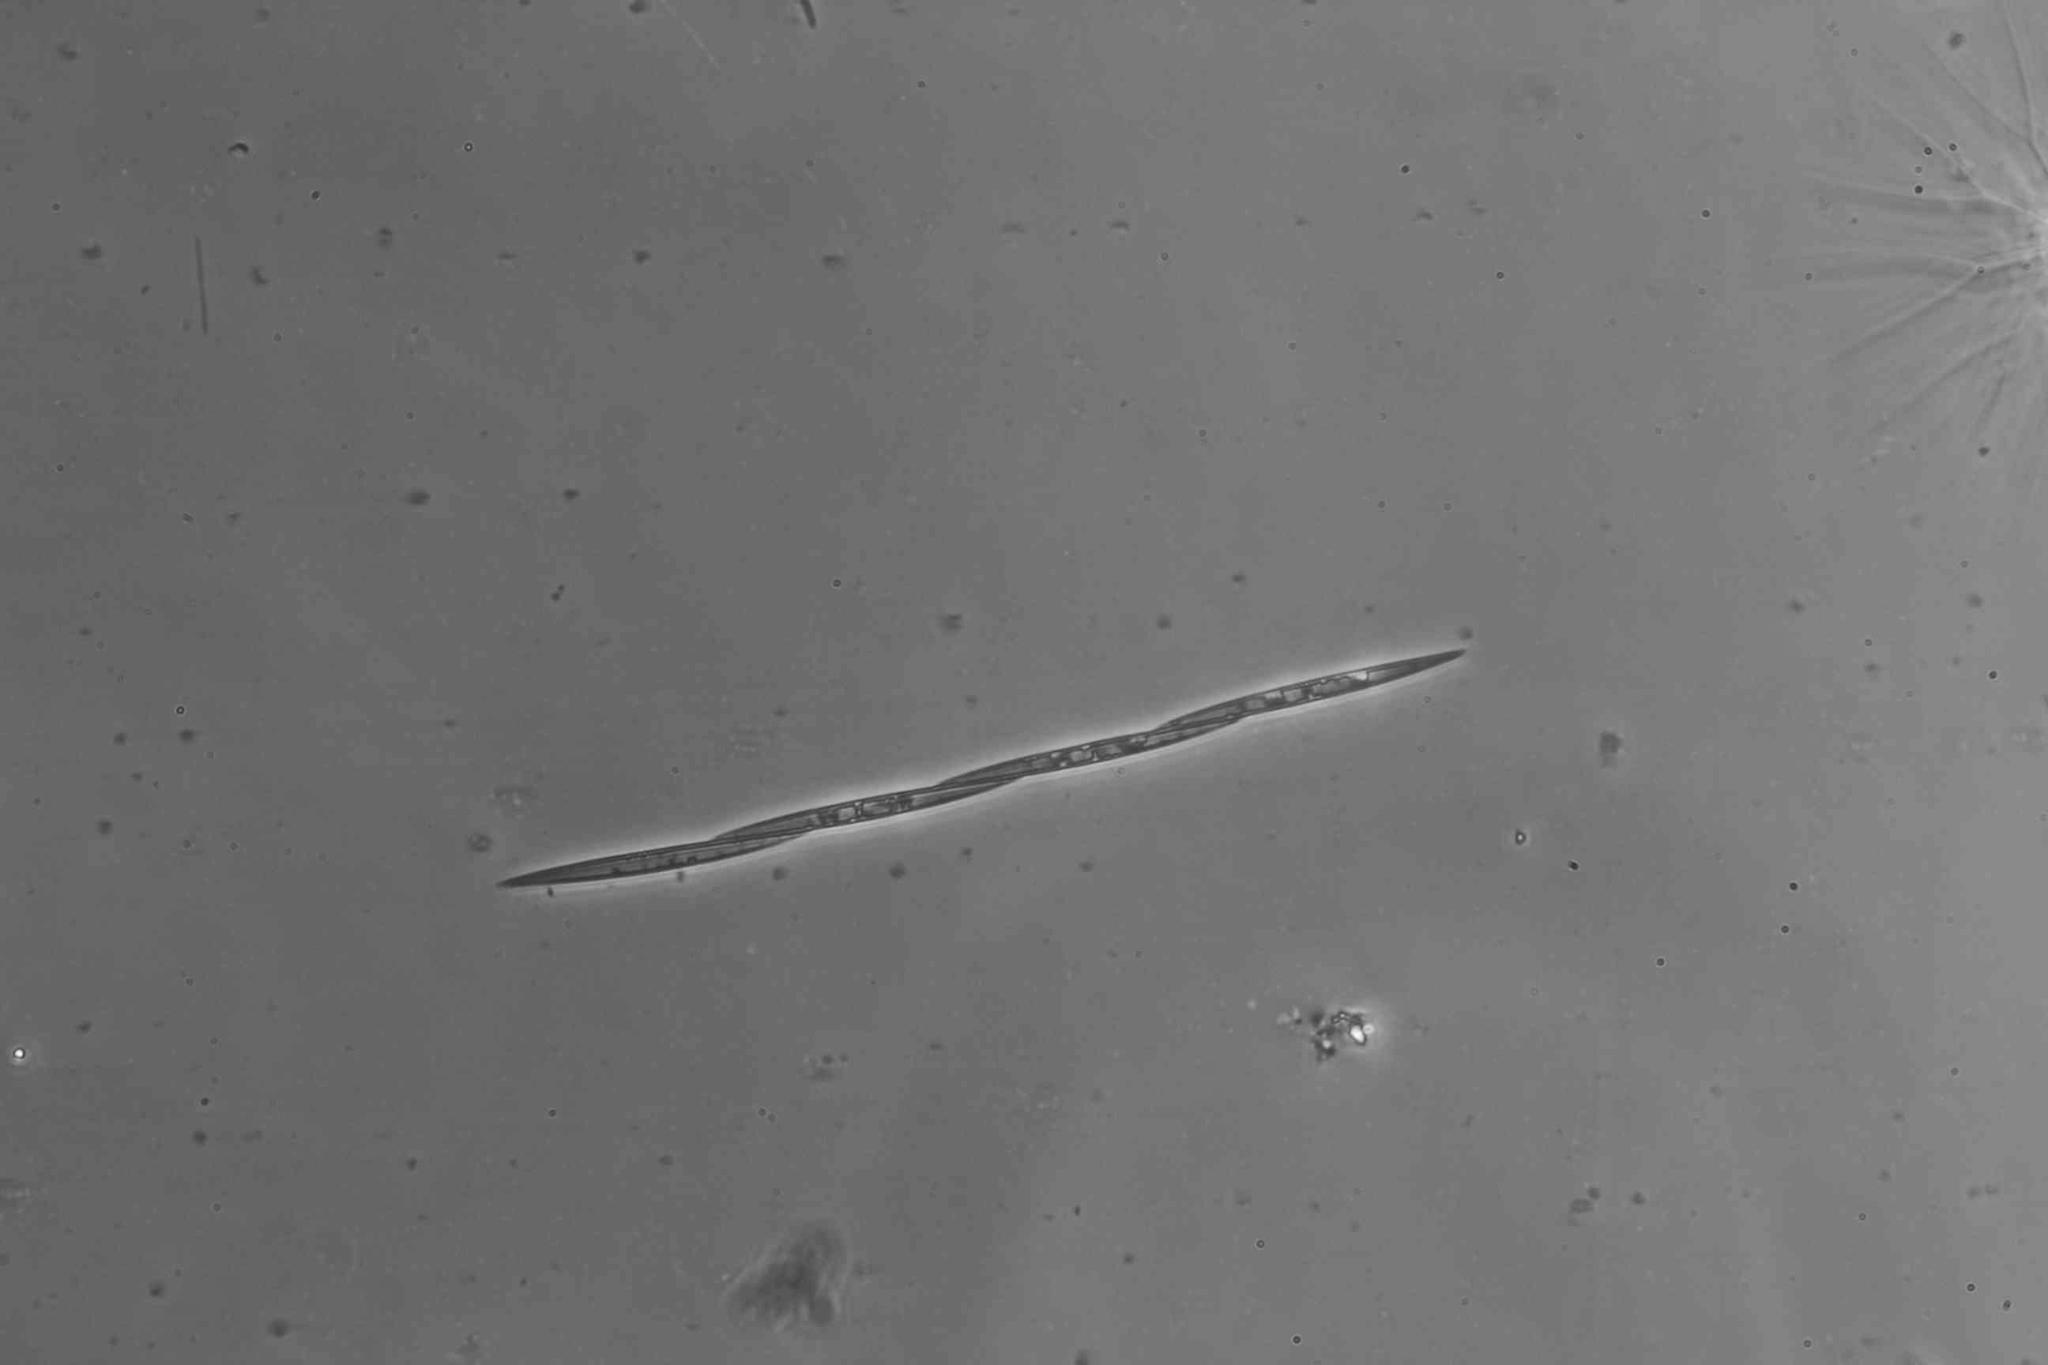pseudo_nitzschia: (498, 651, 1471, 888)
